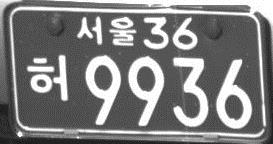3: (171, 55, 209, 127), (141, 15, 171, 49)
6: (215, 57, 253, 129), (172, 14, 199, 52)
9: (83, 52, 122, 126), (128, 54, 164, 127)
서울_O: (76, 15, 138, 48)
허: (25, 53, 70, 103)
